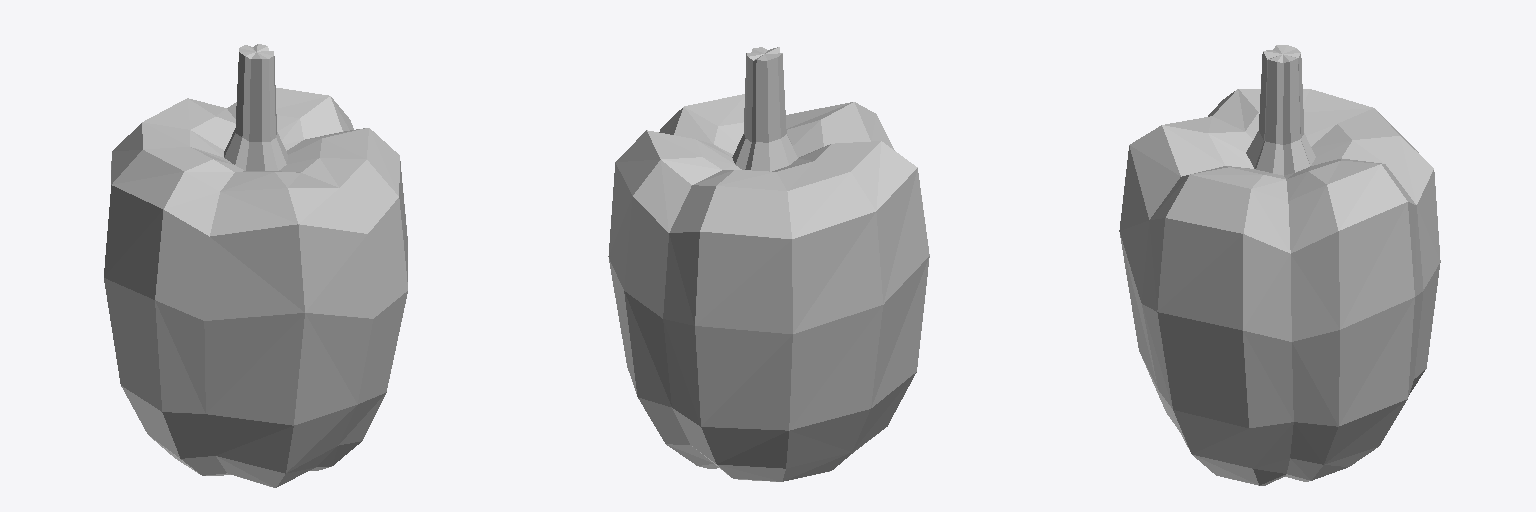
The model's file is Pimenton.obj.
The picture shows the model from 3 angles: view 1: azimuth 30°, elevation 25°; view 2: azimuth 150°, elevation 25°; view 3: azimuth 270°, elevation 25°; orthographic projection.
Visible parts, largest first — view 1: Pimientos.001_paprika.000; view 2: Pimientos.001_paprika.000; view 3: Pimientos.001_paprika.000.
Part boxes in pixels (left/top/right/bottom): Pimientos.001_paprika.000: left=104, top=44, right=407, bottom=487; Pimientos.001_paprika.000: left=608, top=47, right=929, bottom=481; Pimientos.001_paprika.000: left=1119, top=45, right=1440, bottom=485.
Bounding box in the file's own units: 0.1426 × 0.2083 × 0.1482.